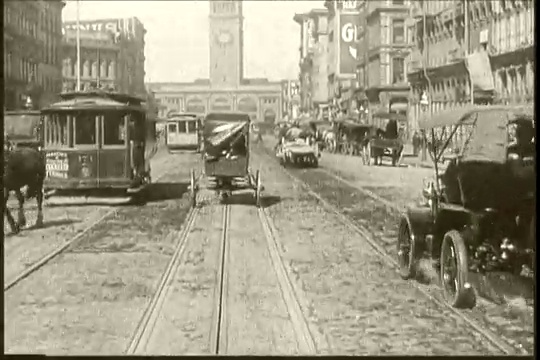car: (375, 102, 540, 316)
carriage: (187, 111, 263, 208), (357, 119, 403, 176), (319, 113, 369, 165), (272, 130, 325, 175)
horse: (0, 128, 42, 253)
trolley: (31, 85, 154, 208), (160, 110, 201, 158)
